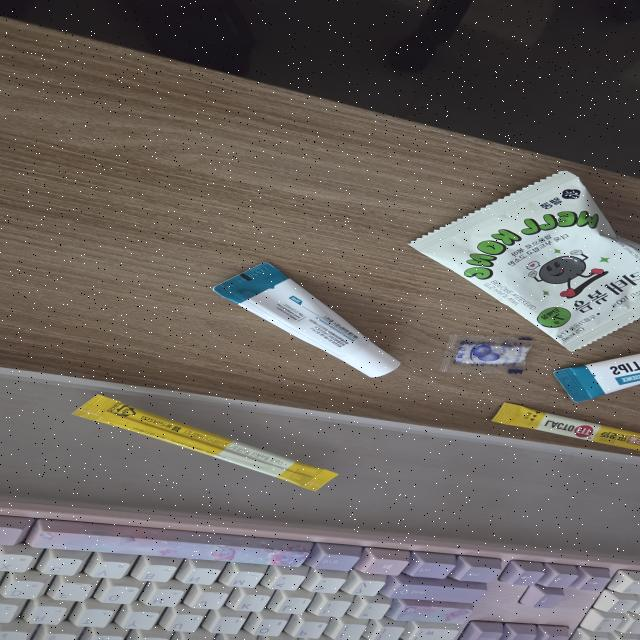lacto: (73, 392, 342, 495), (491, 402, 640, 454)
lib: (212, 262, 402, 391), (550, 354, 640, 402)
salt: (437, 334, 538, 374)
